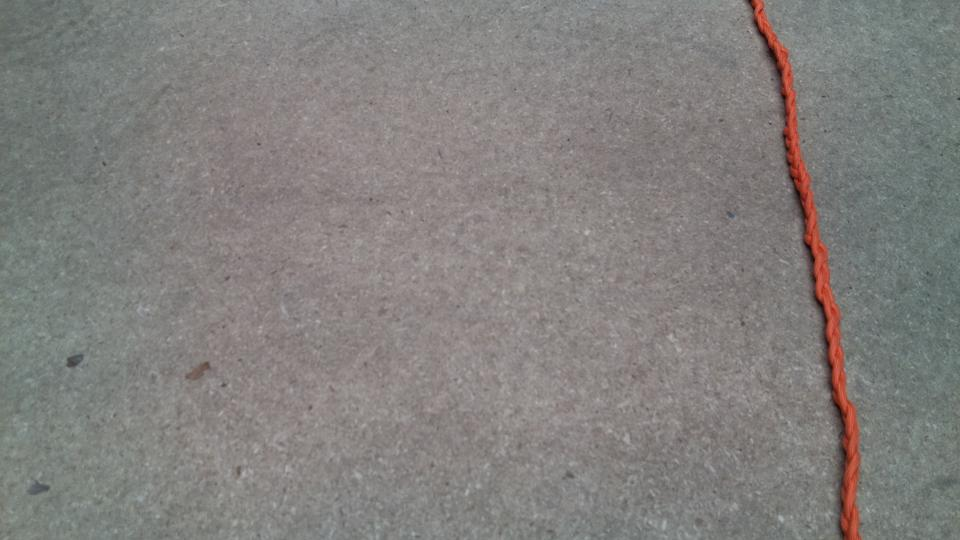rope: (743, 1, 870, 540)
